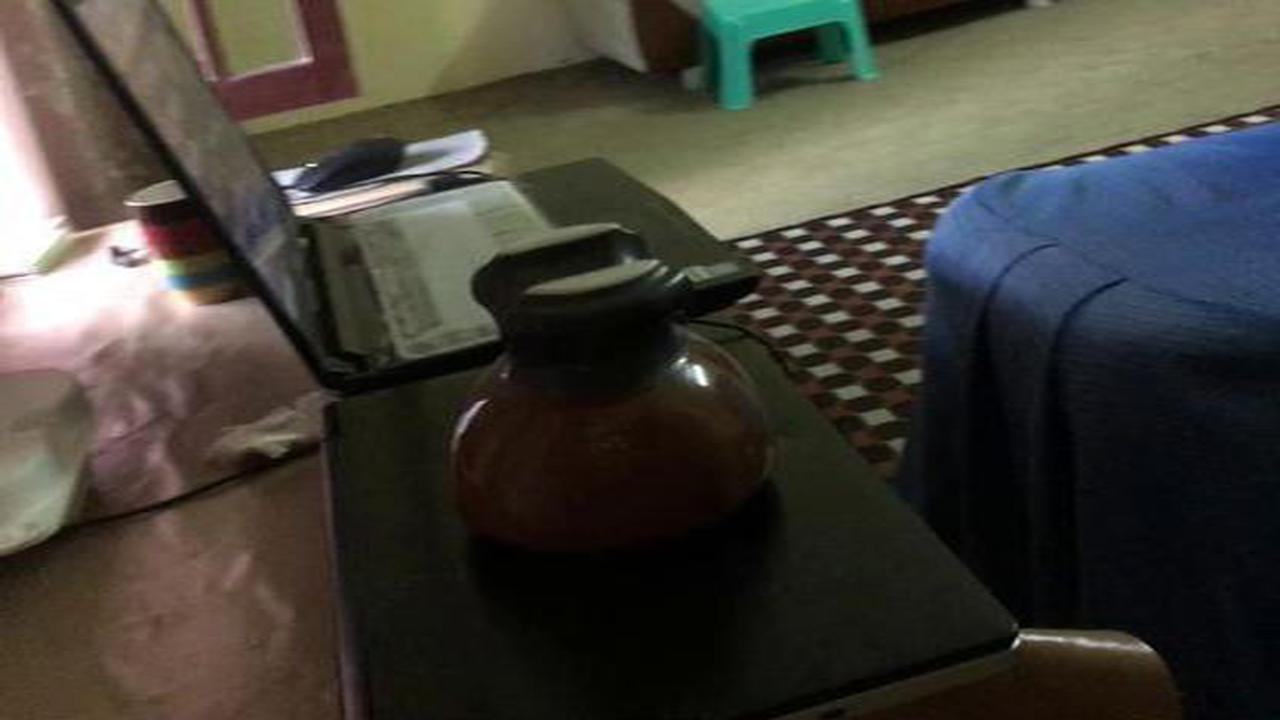insulator_pin: (419, 213, 794, 577)
